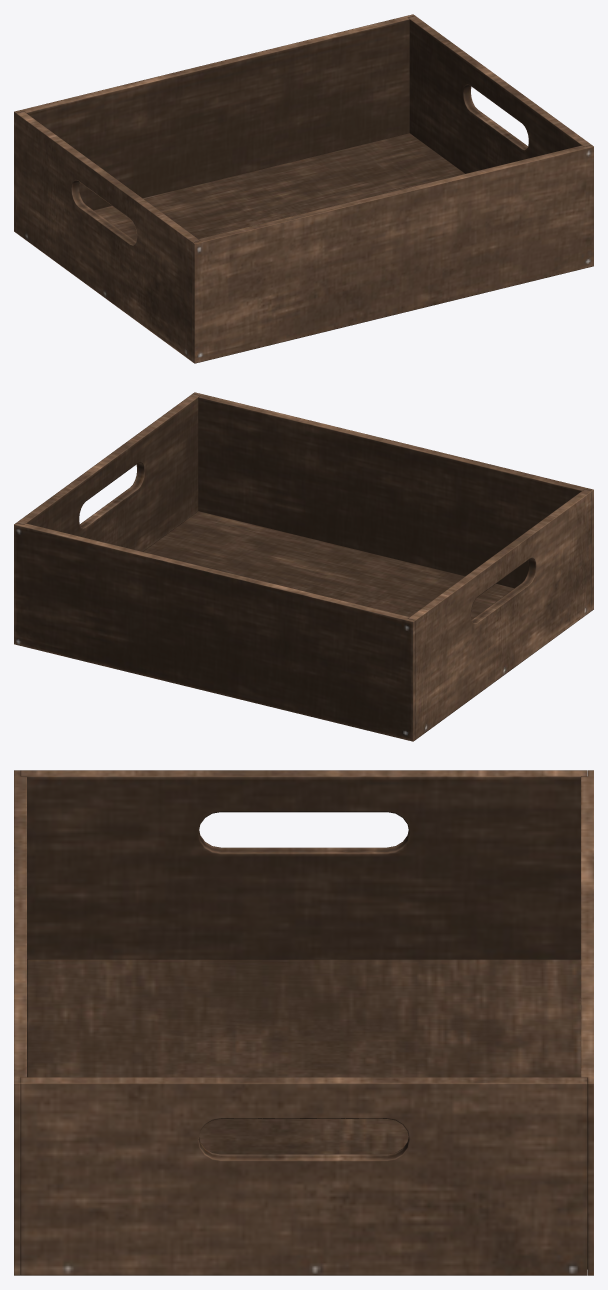
3 views of the same model, one above another, from view 1: azimuth 30°, elevation 25°; view 2: azimuth 150°, elevation 25°; view 3: azimuth 270°, elevation 25° (orthographic). The views are drawn at different scales.
Parts seen in each view (by area): view 1: wooden-crate-1; view 2: wooden-crate-1; view 3: wooden-crate-1.
Boxes of the visible parts, x1,y1,x2,y2 form: wooden-crate-1: (14, 14, 593, 363); wooden-crate-1: (14, 392, 593, 741); wooden-crate-1: (14, 770, 593, 1275).
Bounding box in the file's own units: 0.21 × 0.0602 × 0.1646.
1 material, 1 textured.
